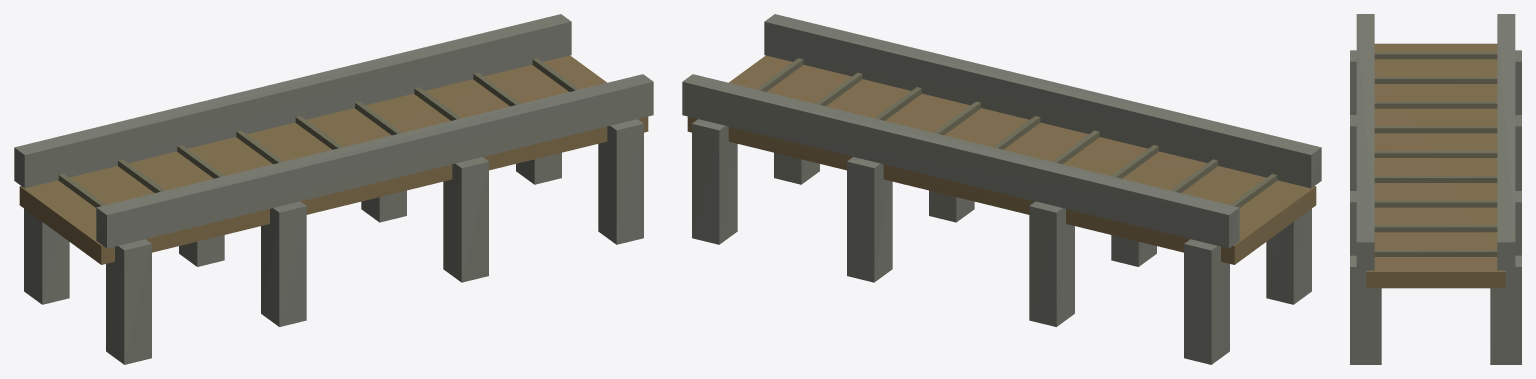
Rendered from stone_bridge-far.glb.
3 renders of one model, left to right at view 1: azimuth 30°, elevation 25°; view 2: azimuth 150°, elevation 25°; view 3: azimuth 270°, elevation 25°, orthographic. The views are drawn at different scales.
Visible parts, largest first — view 1: world-scenery/stone_bridge-far; view 2: world-scenery/stone_bridge-far; view 3: world-scenery/stone_bridge-far.
Boxes of the visible parts, x1,y1,x2,y2 form: world-scenery/stone_bridge-far: (14, 14, 653, 364); world-scenery/stone_bridge-far: (682, 14, 1321, 364); world-scenery/stone_bridge-far: (1350, 14, 1521, 364).
Bounding box in the file's own units: 6 × 1.57 × 1.91.
